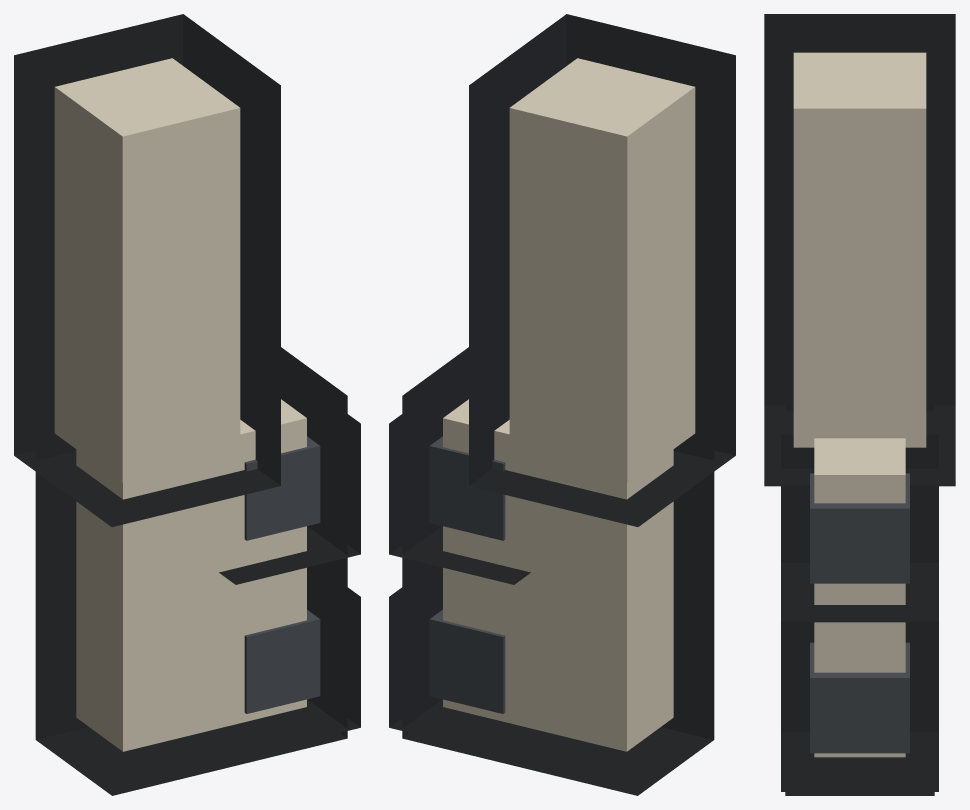
Rendered from SM_Key_Exit_Half.glb.
3 renders of one model, left to right at view 1: azimuth 30°, elevation 25°; view 2: azimuth 150°, elevation 25°; view 3: azimuth 270°, elevation 25°, orthographic. The views are drawn at different scales.
Visible parts, largest first — view 1: SM_Key_Exit_Half, SM_Key_Exit_Half_Outline; view 2: SM_Key_Exit_Half, SM_Key_Exit_Half_Outline; view 3: SM_Key_Exit_Half, SM_Key_Exit_Half_Outline.
Boxes of the visible parts, x1,y1,x2,y2 form: SM_Key_Exit_Half: (54,58,320,751); SM_Key_Exit_Half_Outline: (14,14,360,795); SM_Key_Exit_Half: (429,58,695,751); SM_Key_Exit_Half_Outline: (389,14,735,795); SM_Key_Exit_Half: (793,52,926,757); SM_Key_Exit_Half_Outline: (764,14,955,795).
Bounding box in the file's own units: 0.07 × 0.1765 × 0.046.
Materials: 2 (1 with a texture image).
